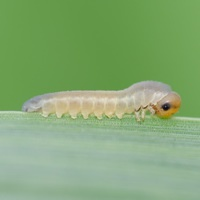insect: (22, 81, 180, 121)
